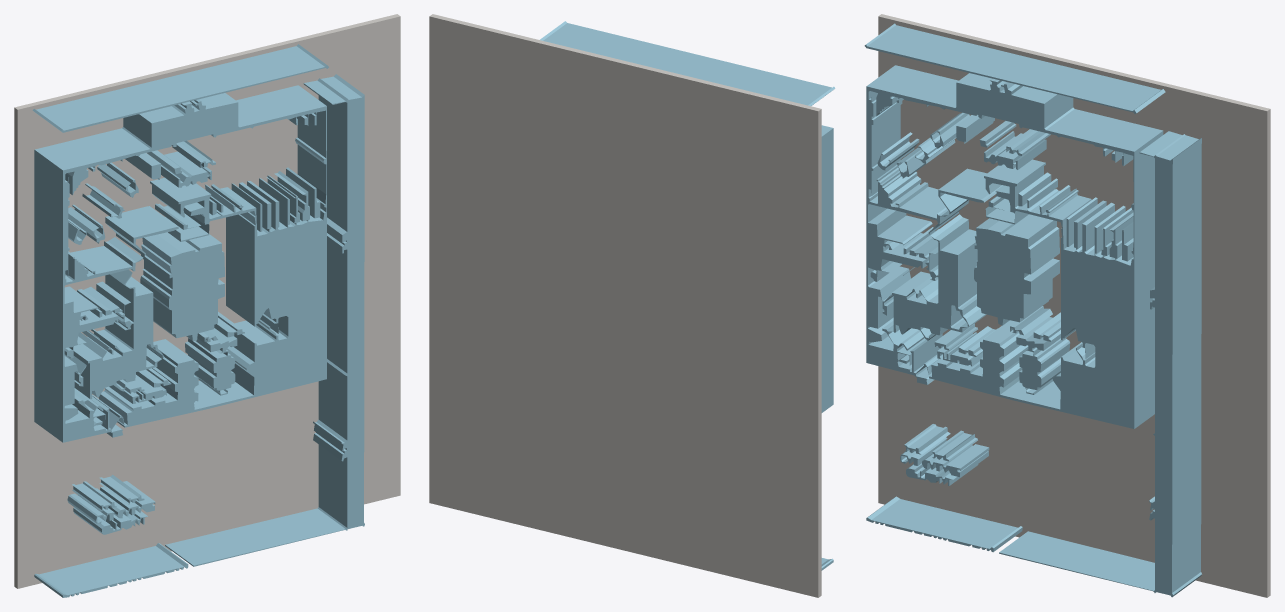
3 views of the same model, side by side, from view 1: azimuth 30°, elevation 25°; view 2: azimuth 150°, elevation 25°; view 3: azimuth 330°, elevation 25° (orthographic).
Parts seen in each view (by area): view 1: world; view 2: world; view 3: world.
Boxes of the visible parts, x1=… form: world: x1=14, y1=14, x2=400, y2=597; world: x1=429, y1=14, x2=835, y2=597; world: x1=864, y1=14, x2=1270, y2=597.
Bounding box in the file's own units: 10.23 × 12.23 × 1.47.
